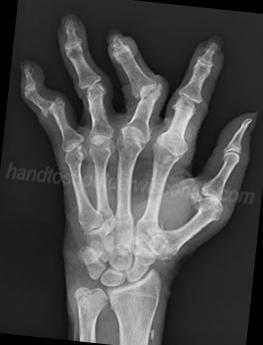fracture: (184, 186, 220, 216), (135, 78, 164, 107), (42, 94, 64, 118), (88, 86, 109, 102)
